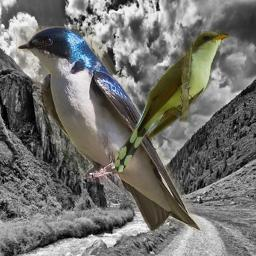Cuckoo: (115, 31, 229, 172)
Swallow: (16, 26, 204, 234)
